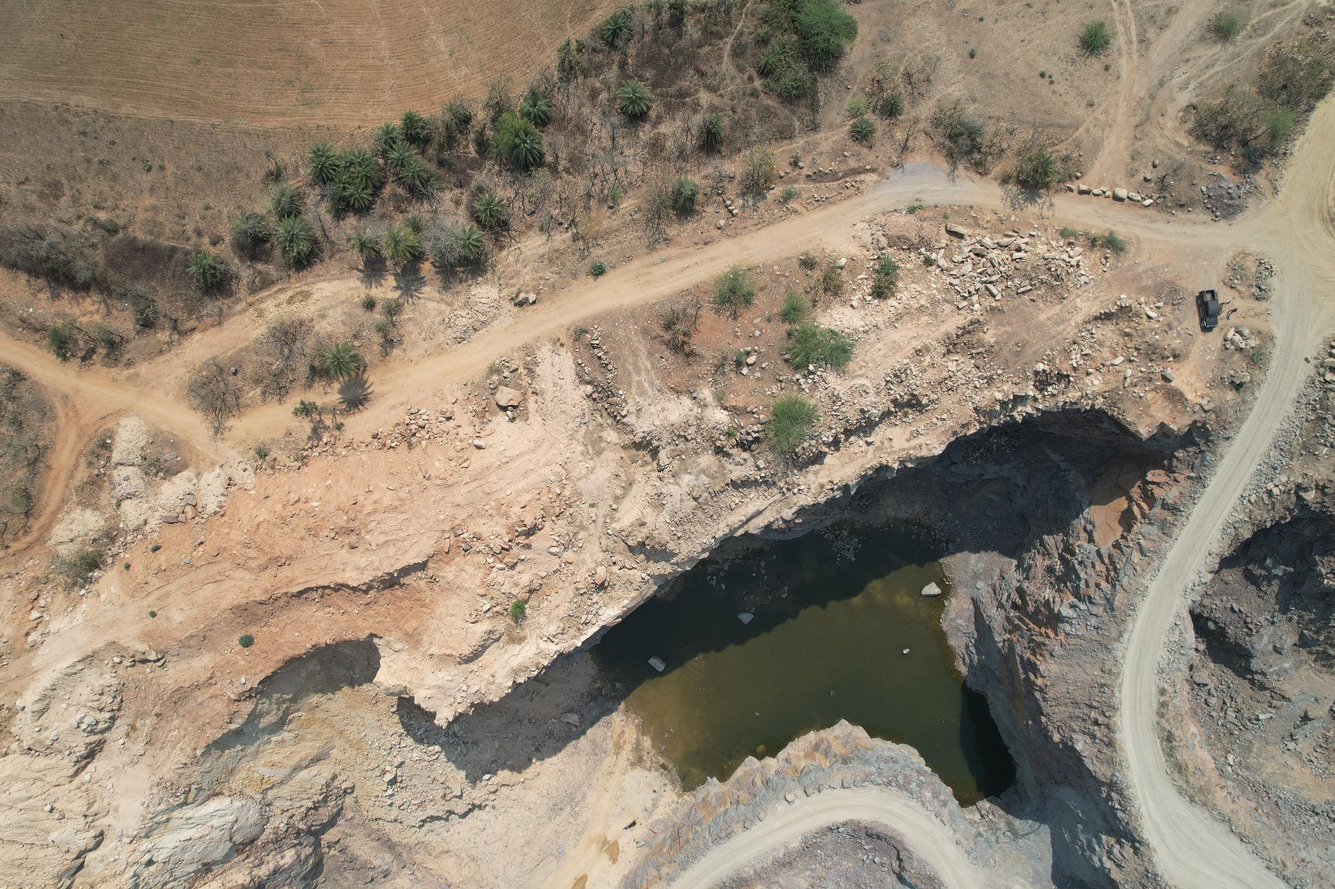benches: (338, 161, 1186, 404), (1117, 262, 1315, 889), (0, 274, 364, 549), (672, 786, 1001, 889)
truck: (1198, 281, 1230, 334)
